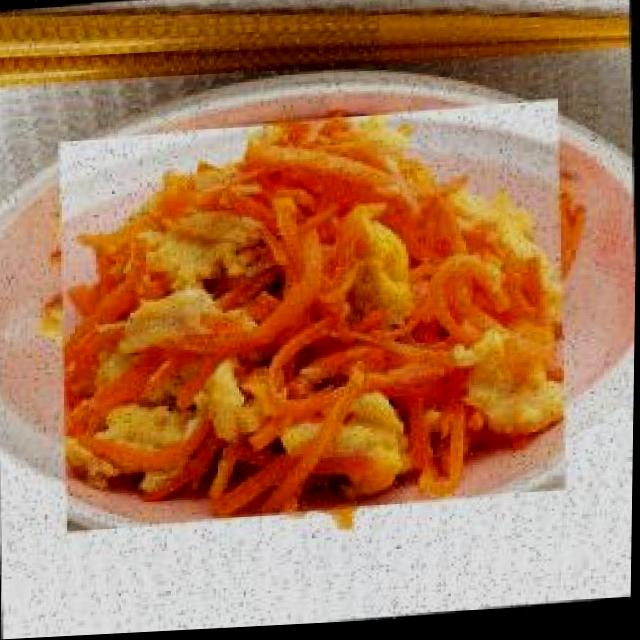carrot_eggs: (57, 105, 575, 535)
